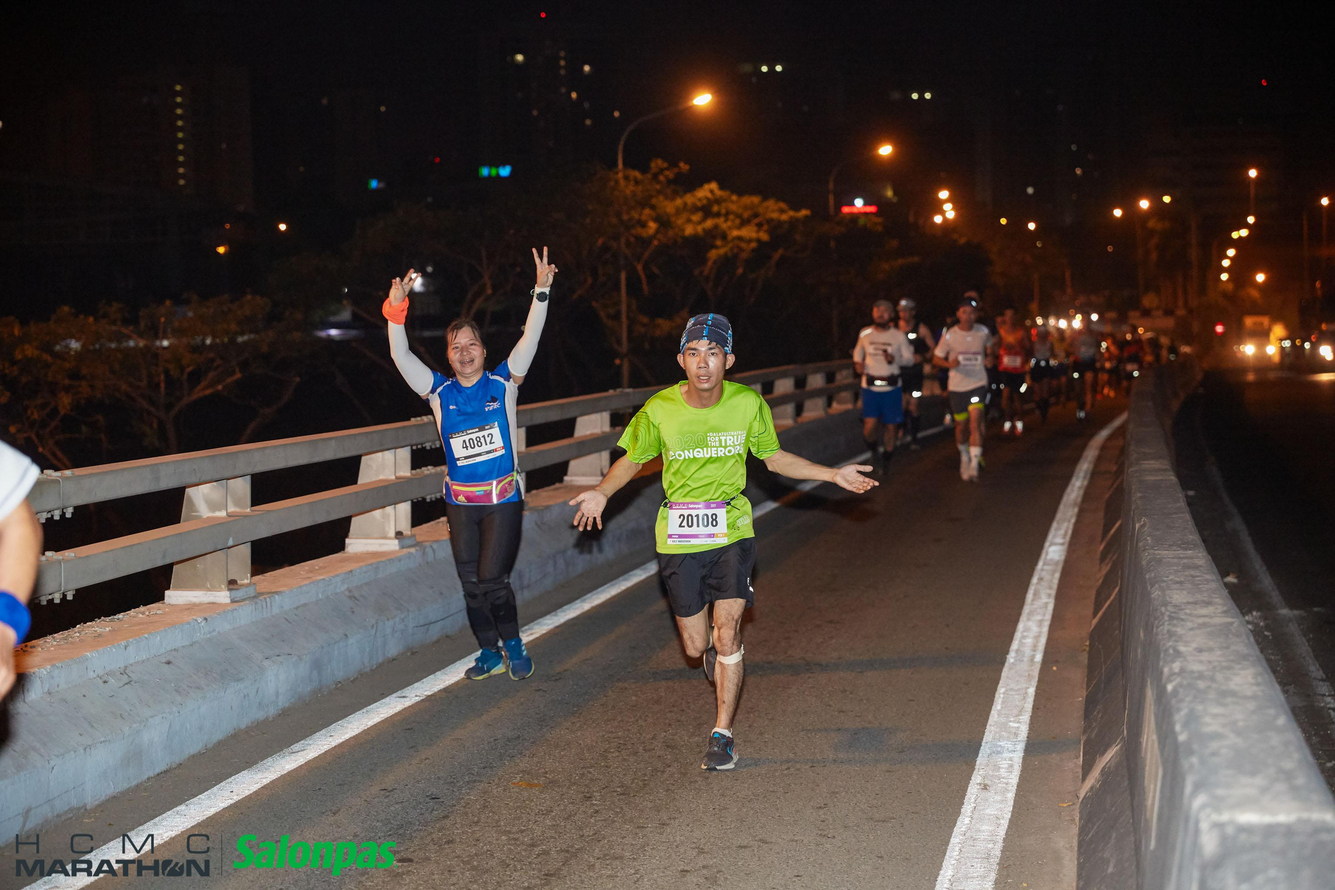bib: (667, 500, 731, 548), (441, 423, 507, 464), (867, 340, 892, 359), (958, 351, 981, 369), (1004, 353, 1021, 369)
